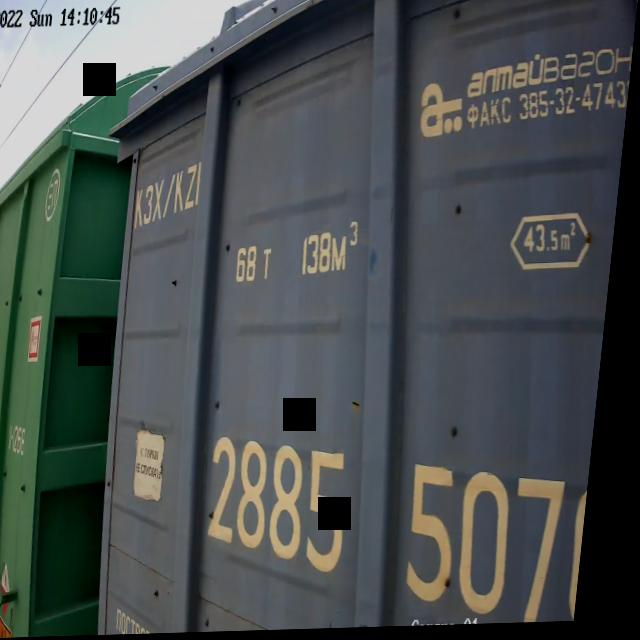boxcar: (69, 0, 640, 637), (0, 62, 153, 640)
